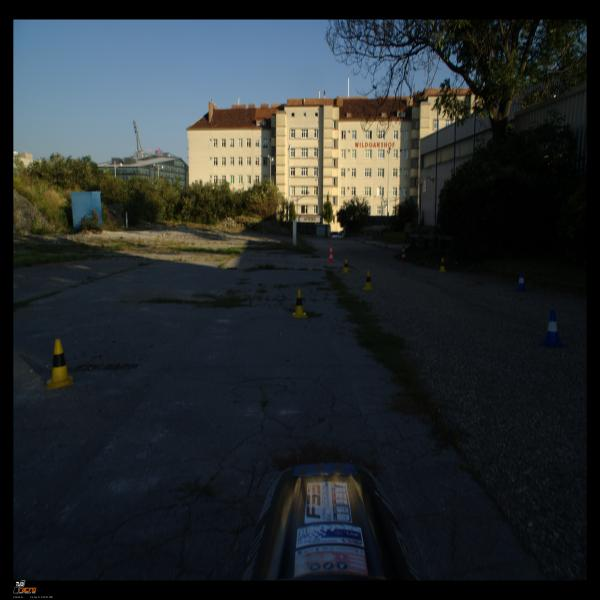blue_cone: (540, 310, 565, 347), (516, 272, 526, 292)
large_orange_cone: (327, 244, 334, 263), (401, 244, 407, 262)
yellow_cone: (46, 338, 74, 390), (292, 289, 307, 318), (363, 270, 374, 291), (342, 259, 349, 274), (439, 258, 446, 272)
